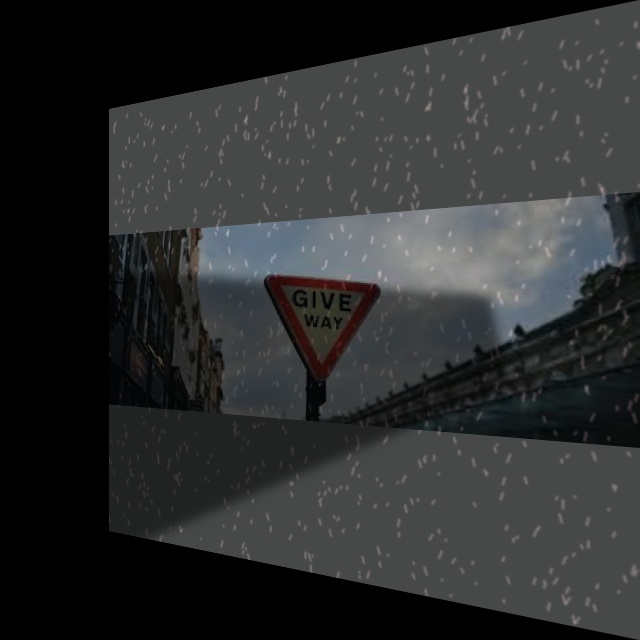Give_Way: (272, 269, 379, 382)
